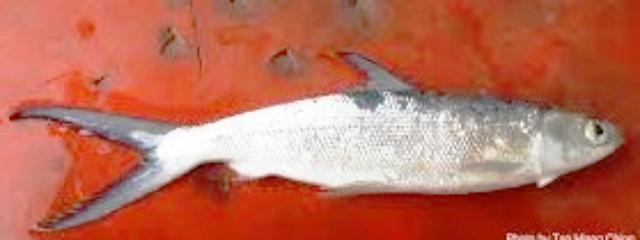Healthy Fish: (9, 50, 629, 232)
